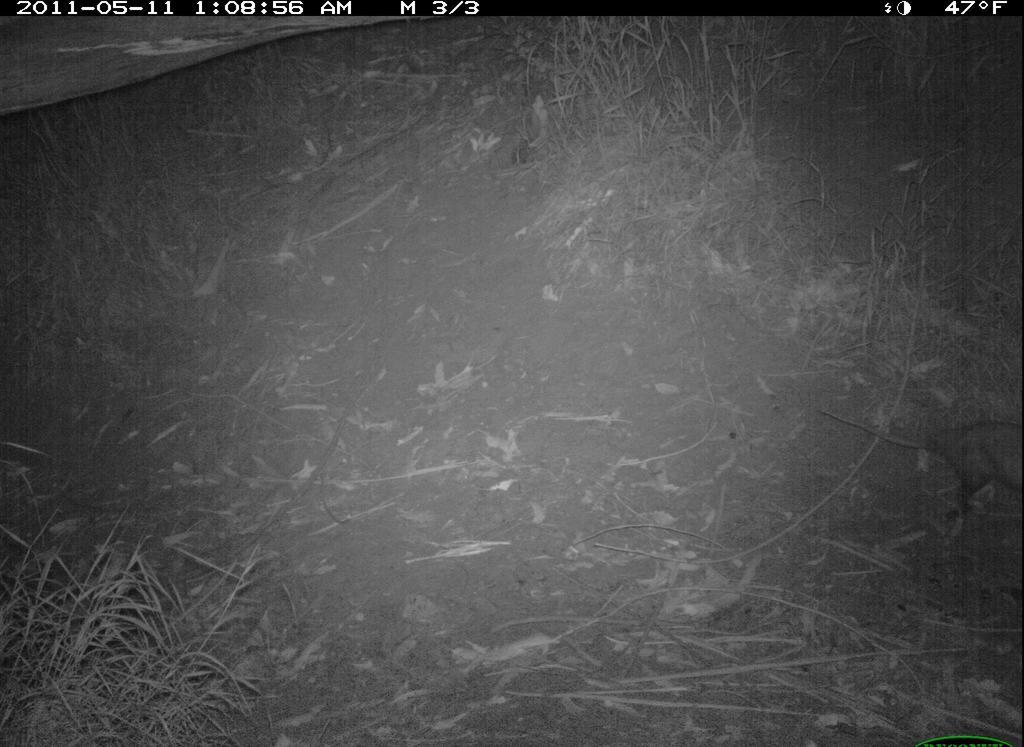opossum: (815, 383, 1023, 557)
